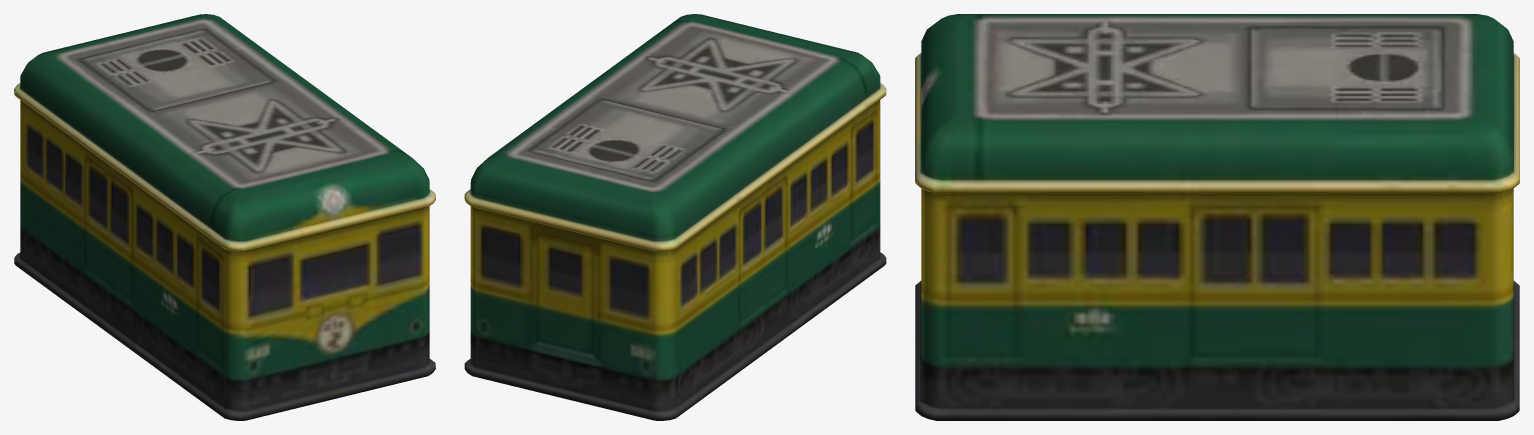
3 renders of one model, left to right at view 1: azimuth 30°, elevation 25°; view 2: azimuth 150°, elevation 25°; view 3: azimuth 270°, elevation 25°, orthographic. The views are drawn at different scales.
Size of the model in its own units: 5.24 by 5.02 by 9.65.
1 material, 1 textured.
